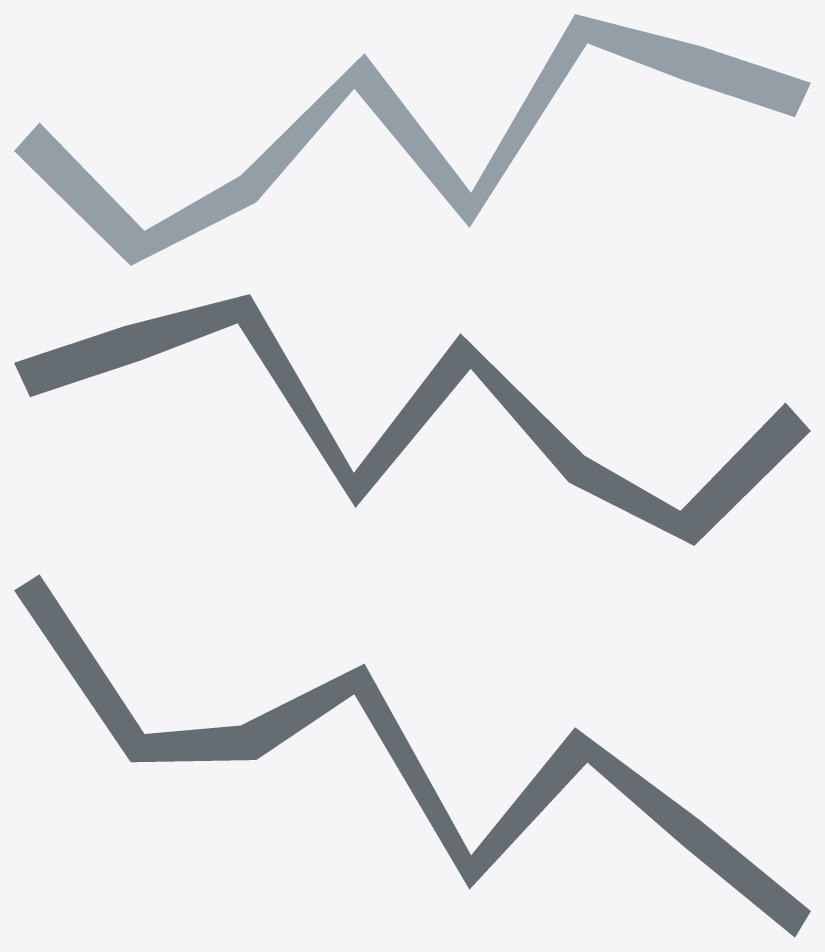
The model's file is ElementalGround_Electro_GroundArc39.fbx.
3 views of the same model, one above another, from view 1: azimuth 30°, elevation 25°; view 2: azimuth 150°, elevation 25°; view 3: azimuth 330°, elevation 25° (orthographic).
Visible parts, largest first — view 1: PART_GroundArc39; view 2: PART_GroundArc39; view 3: PART_GroundArc39.
Part boxes in pixels (x1,y1,x2,y2): PART_GroundArc39: (14, 14, 810, 265); PART_GroundArc39: (14, 294, 810, 545); PART_GroundArc39: (14, 574, 810, 937).
Size of the model in its own units: 71.87 by 18.13 by 2.95e-06.
